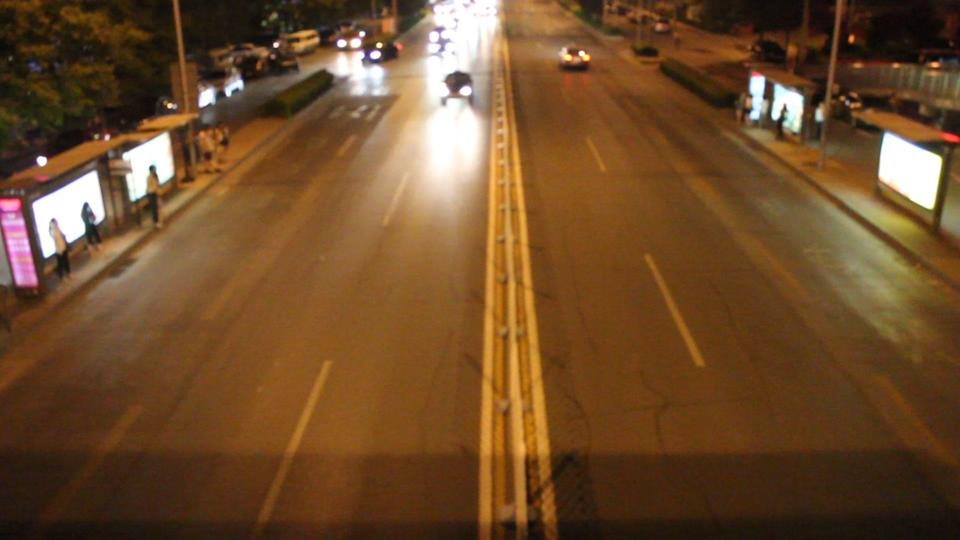car: (441, 73, 480, 106), (361, 36, 401, 63), (280, 29, 320, 55), (559, 46, 592, 71), (333, 29, 368, 50)
person: (48, 215, 69, 284), (145, 161, 165, 226), (79, 201, 101, 259)
